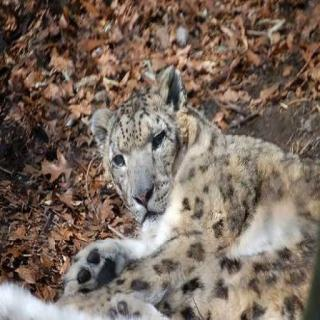Leopard: (64, 71, 320, 320)
